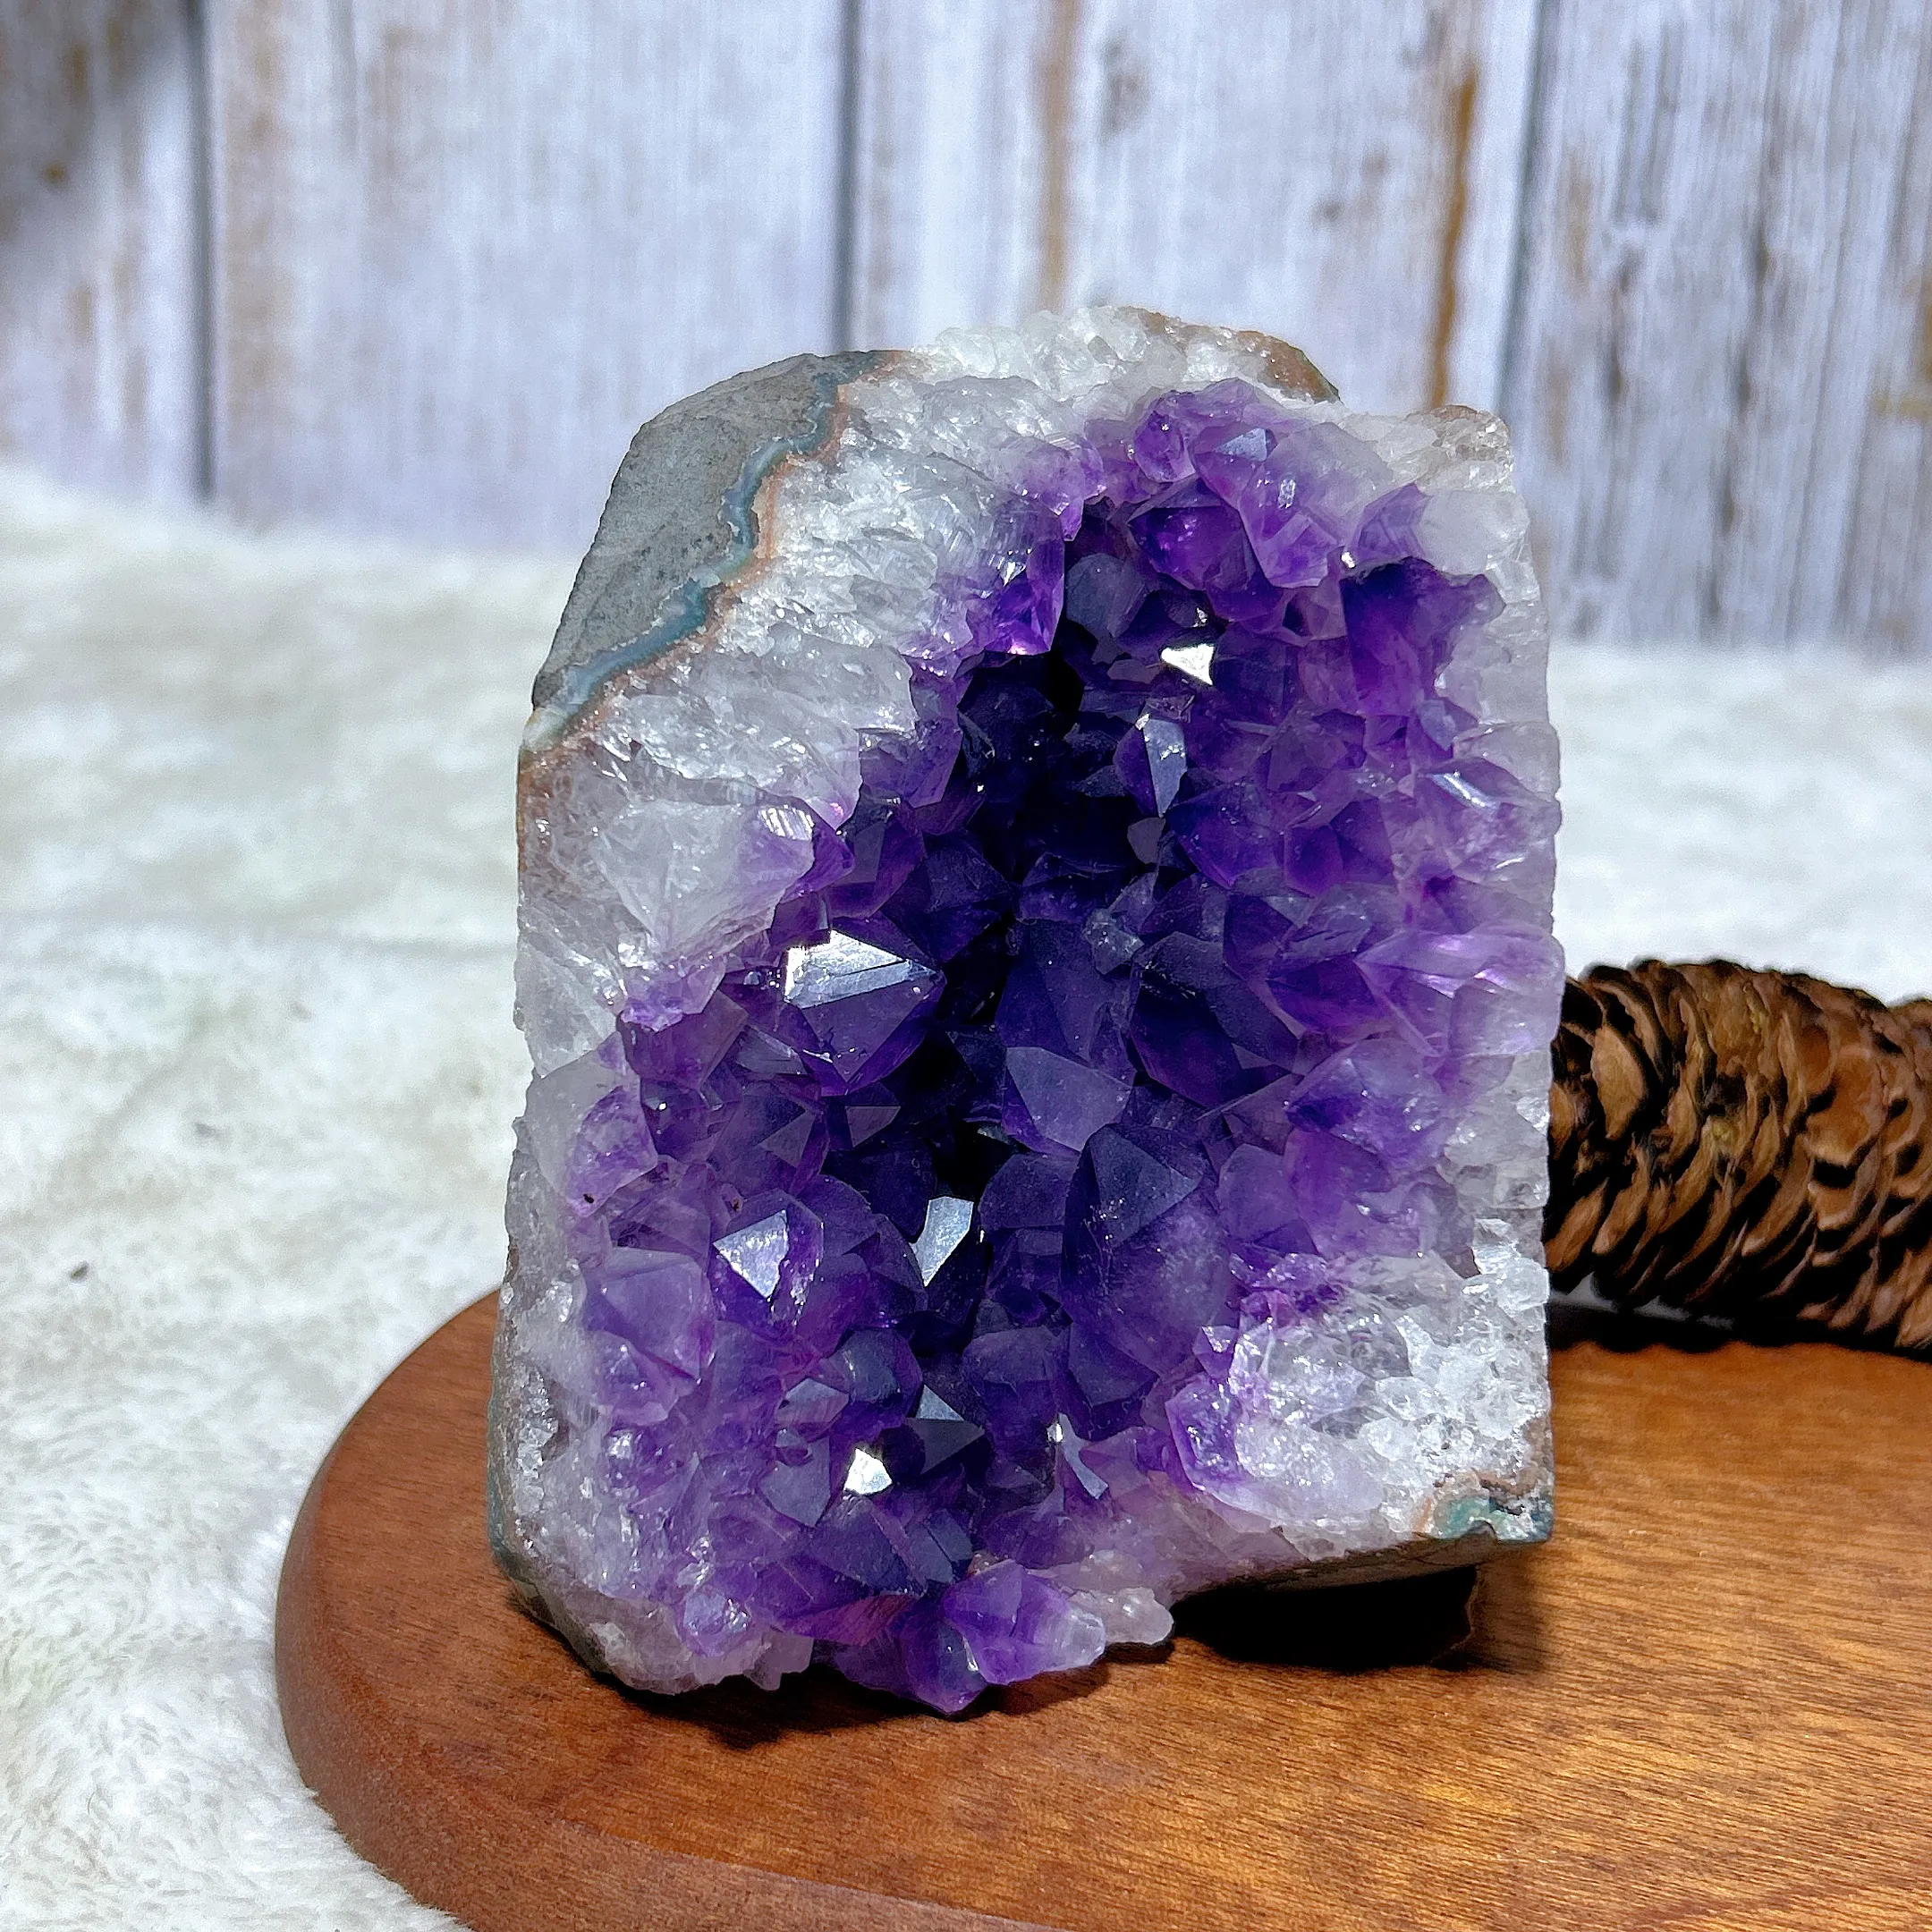Amethyst: (525, 329, 1548, 1711)
